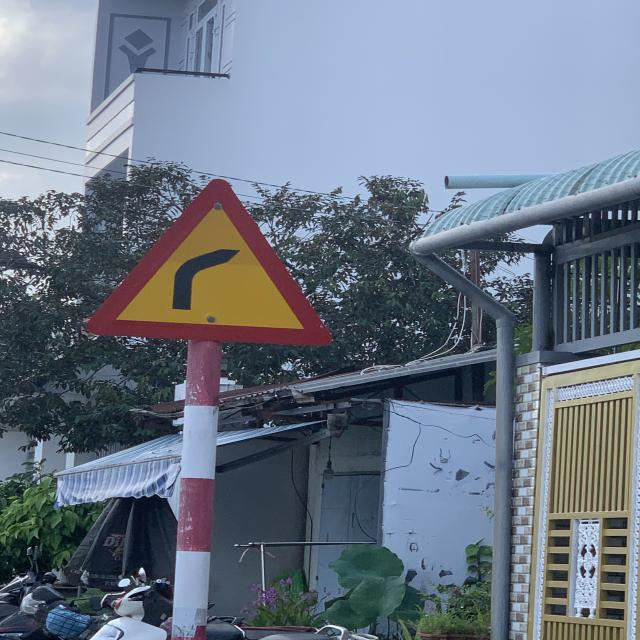Duong_Nguoi_Di_Bo_Cat_Ngang: (87, 180, 331, 348)
